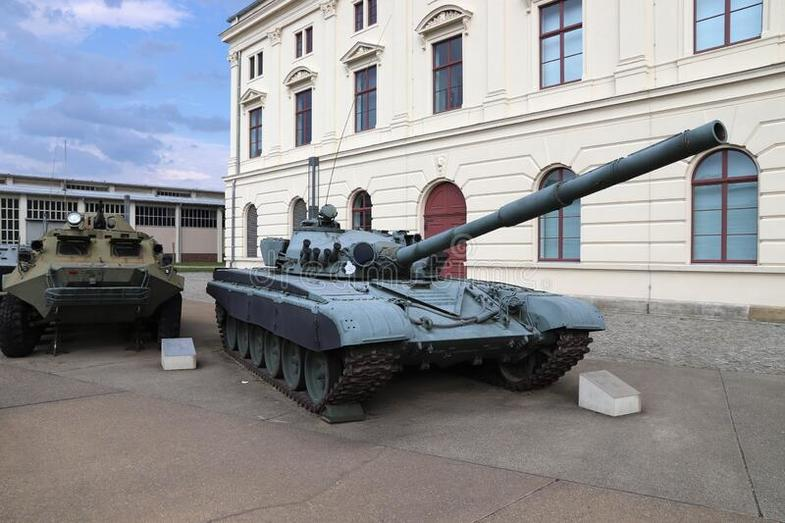t72: (212, 200, 604, 401)
